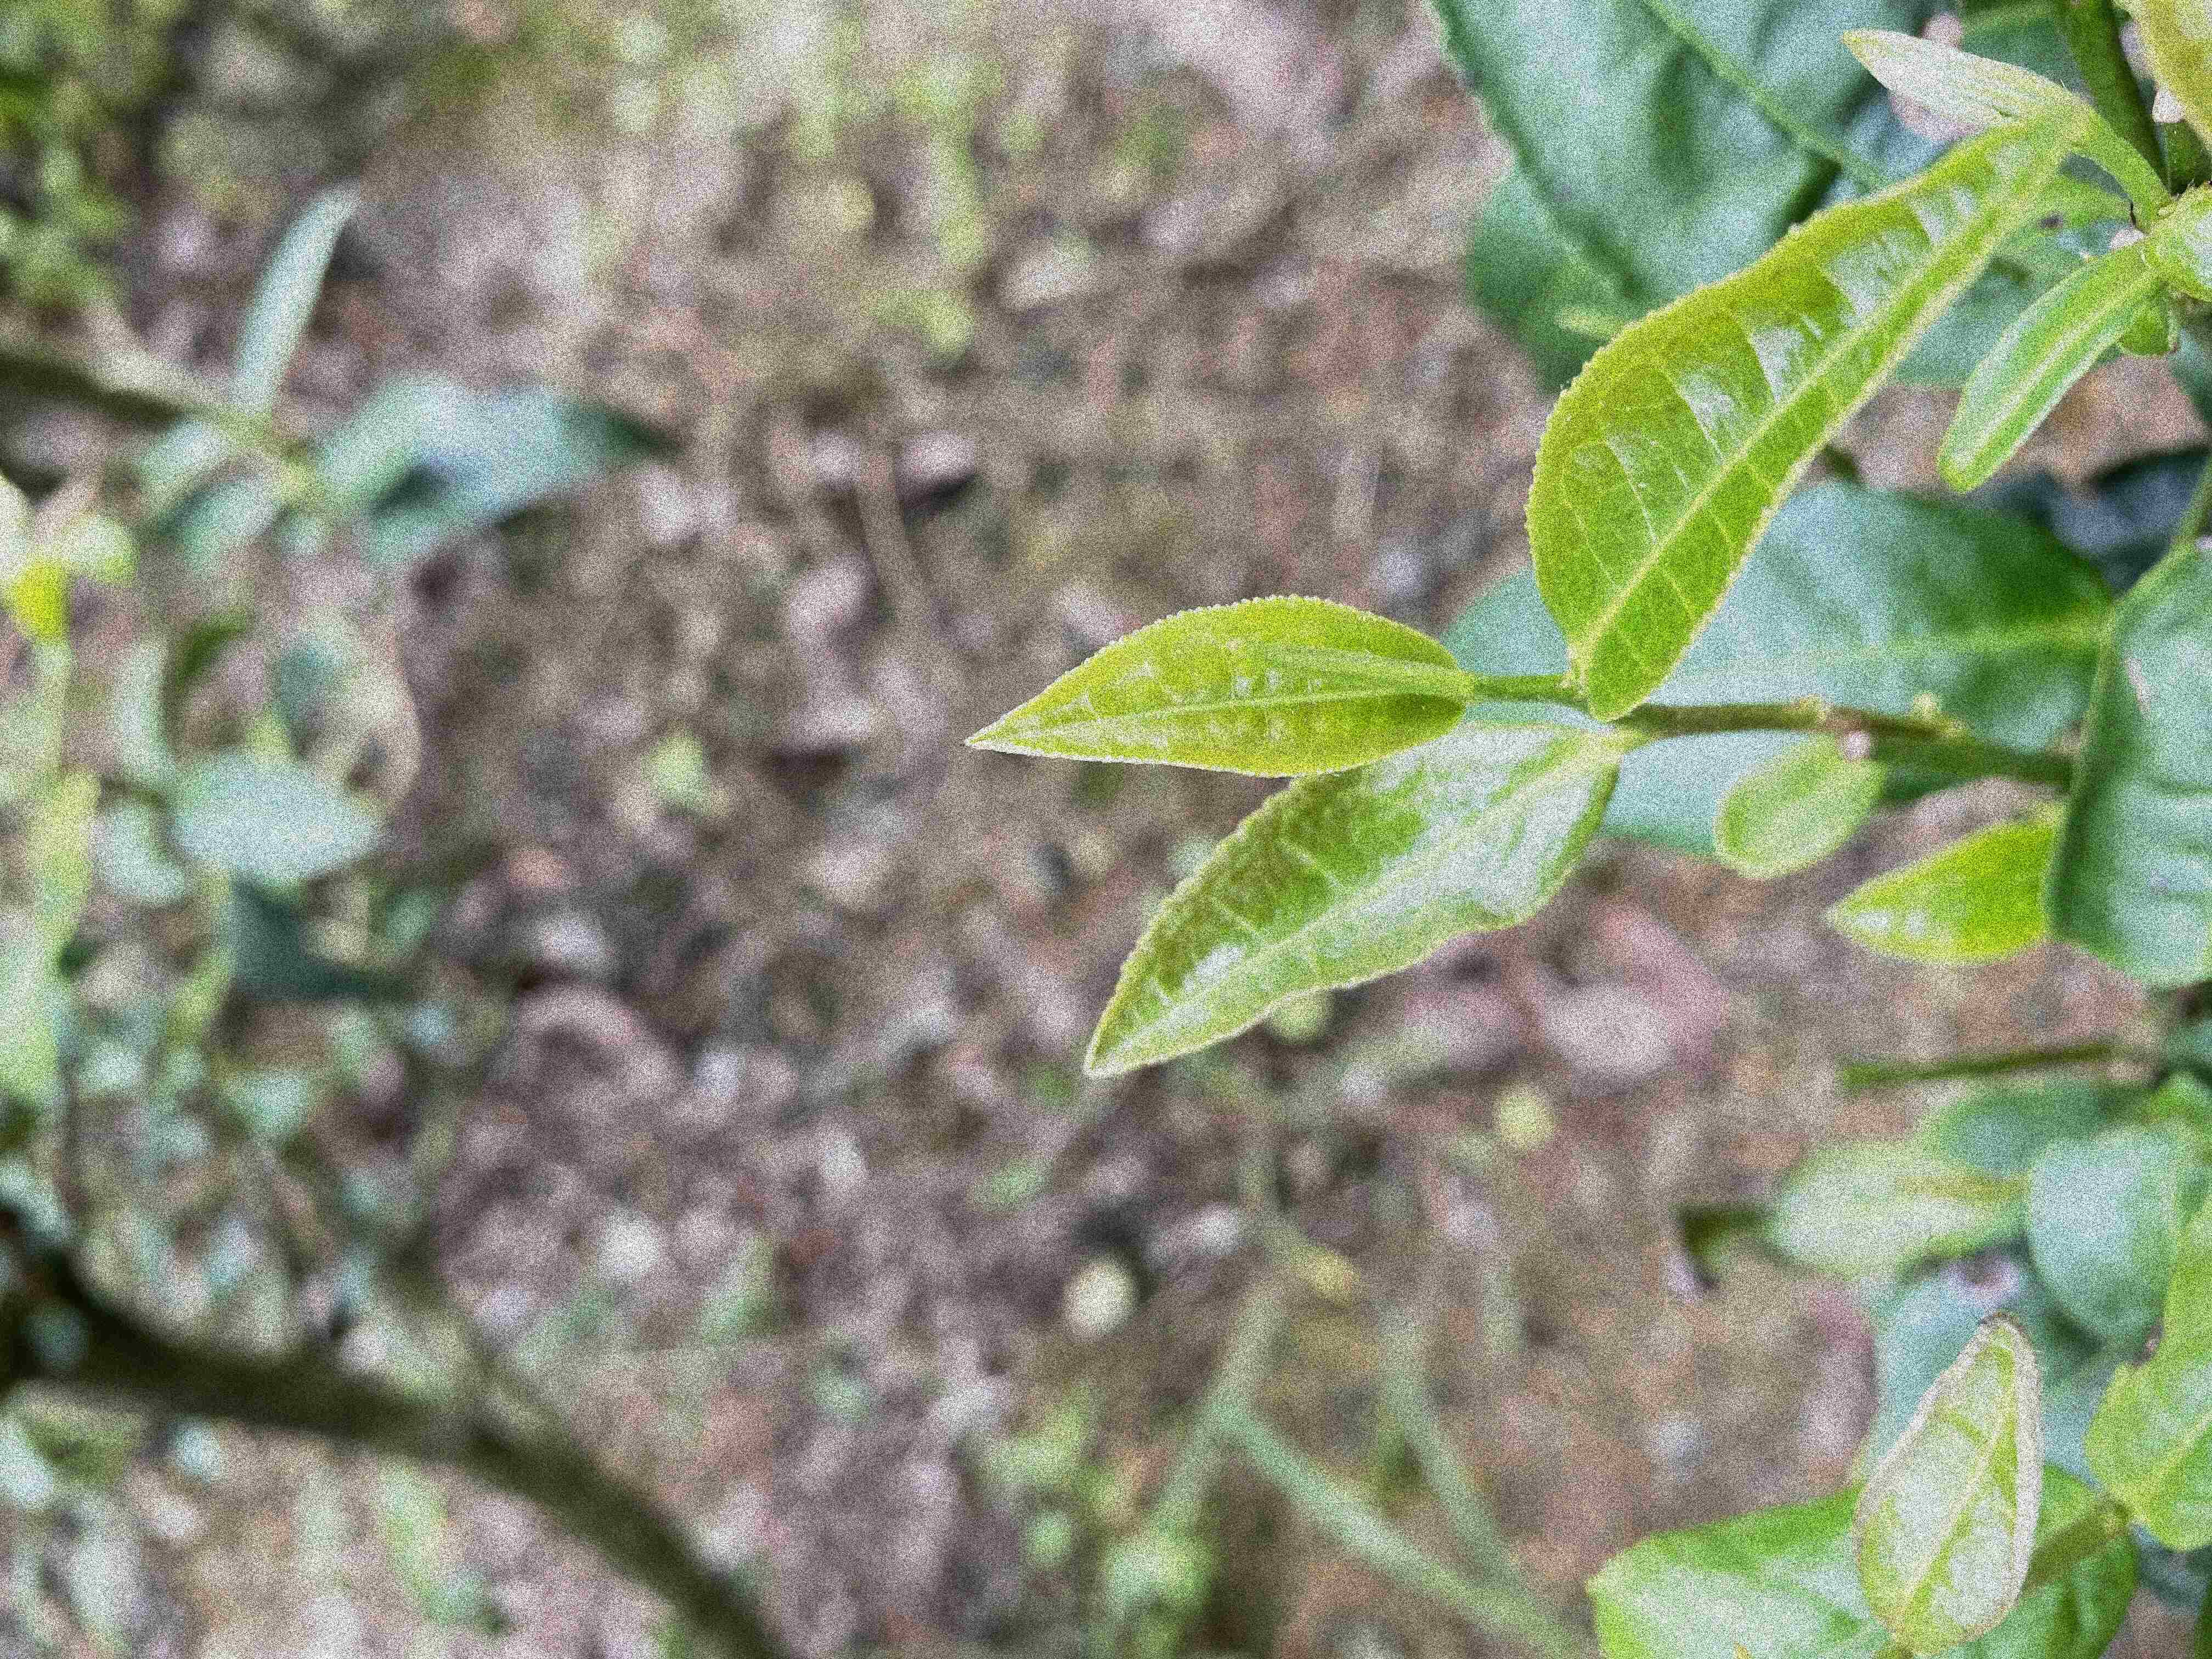healthy: (1522, 98, 2087, 721), (1083, 718, 1620, 1077), (963, 591, 1470, 779)
tanju_low: (1851, 1316, 2048, 1657)
